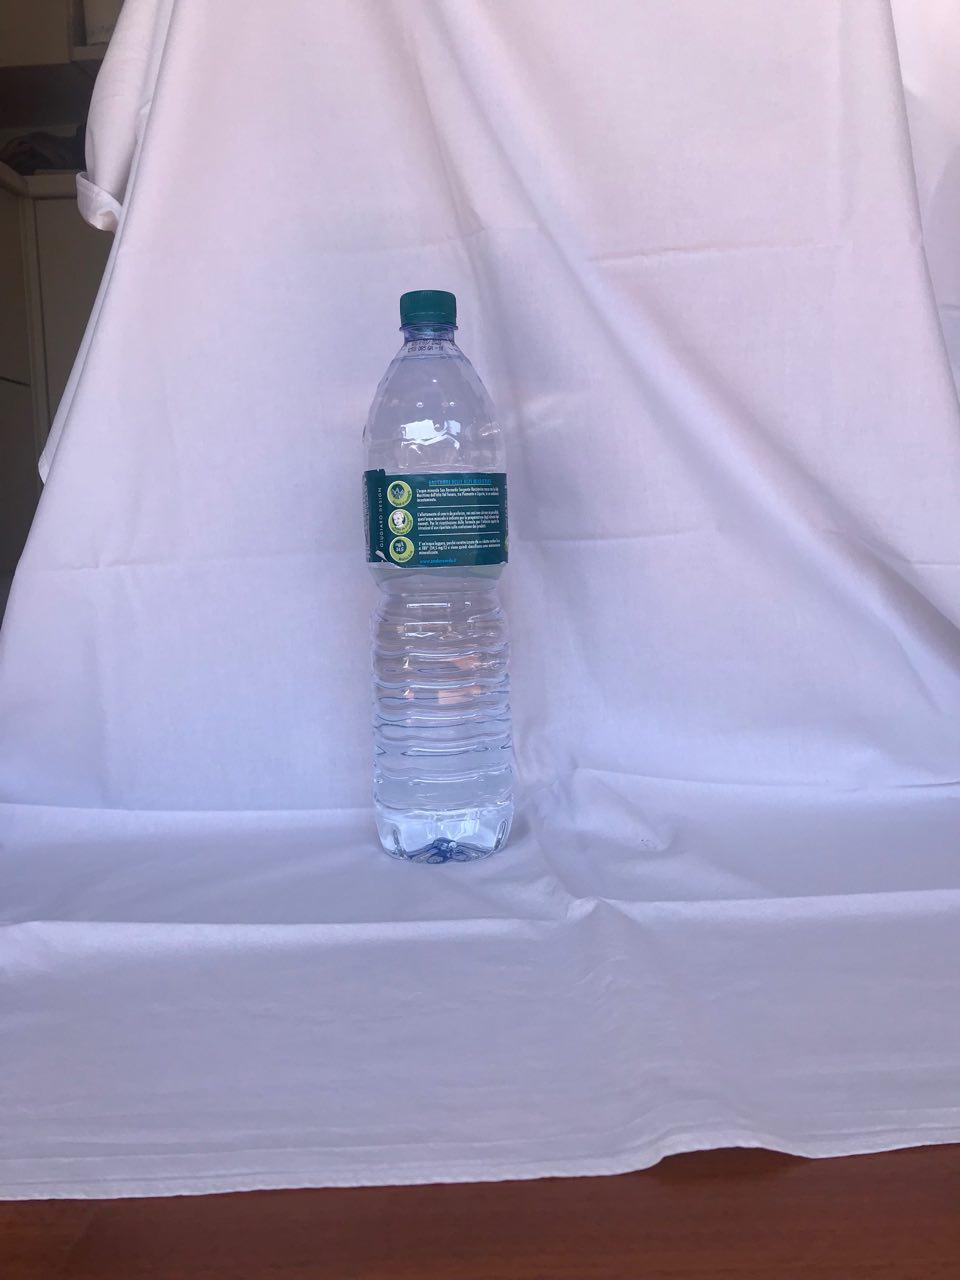san_bernardo: (358, 287, 516, 866)
